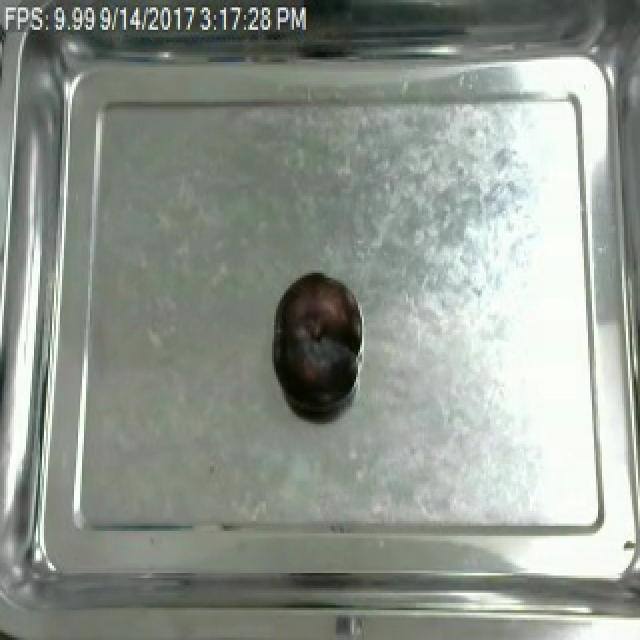Fruit: (270, 268, 358, 412)
